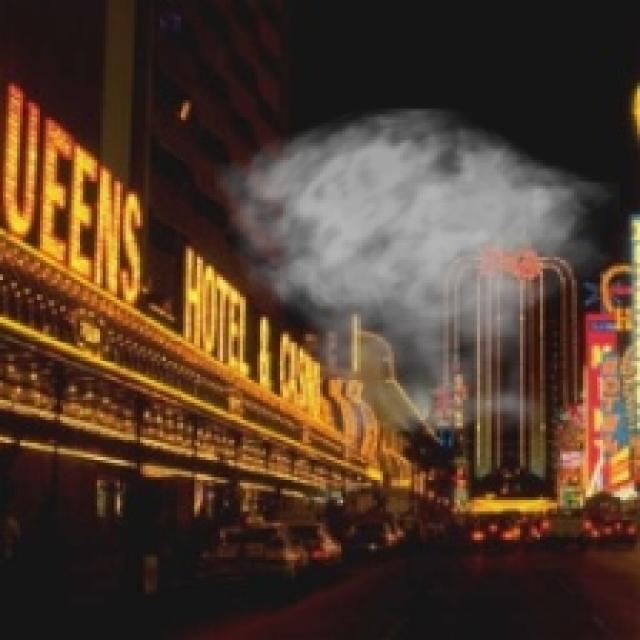smoke: (214, 106, 620, 466)
